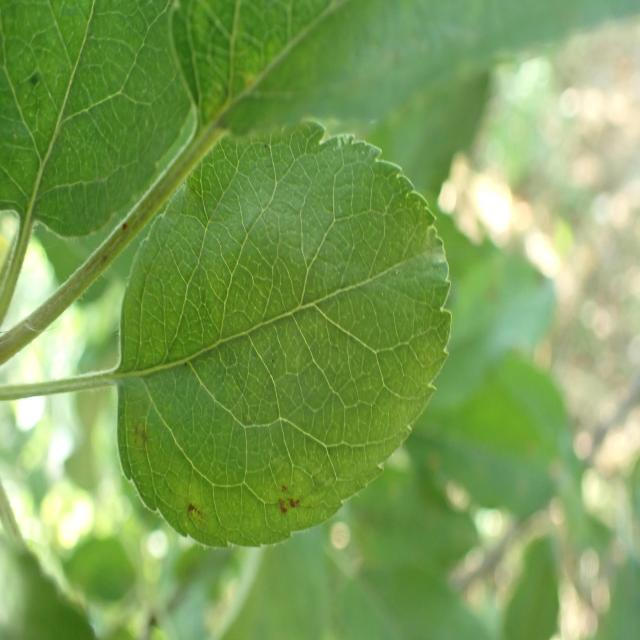scab: (105, 282, 427, 552)
